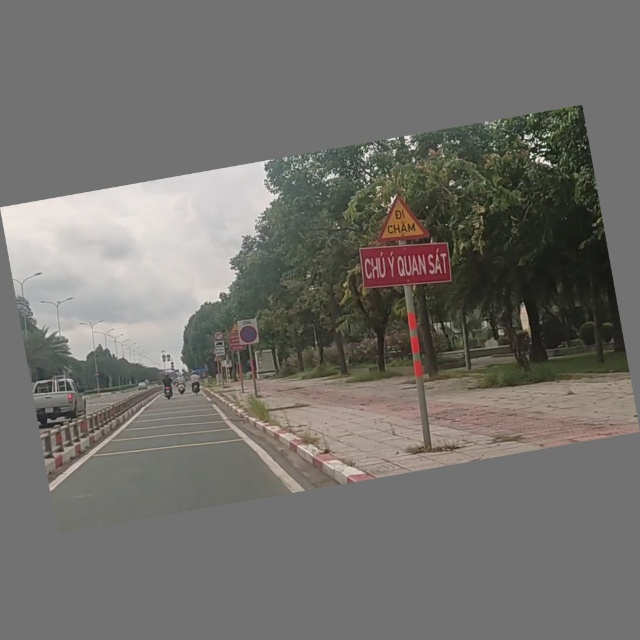P.123b: (213, 331, 224, 342)
P.130: (236, 317, 260, 348)
S.505a*Xe tai: (213, 341, 227, 357)
W.245a: (368, 186, 433, 248)
